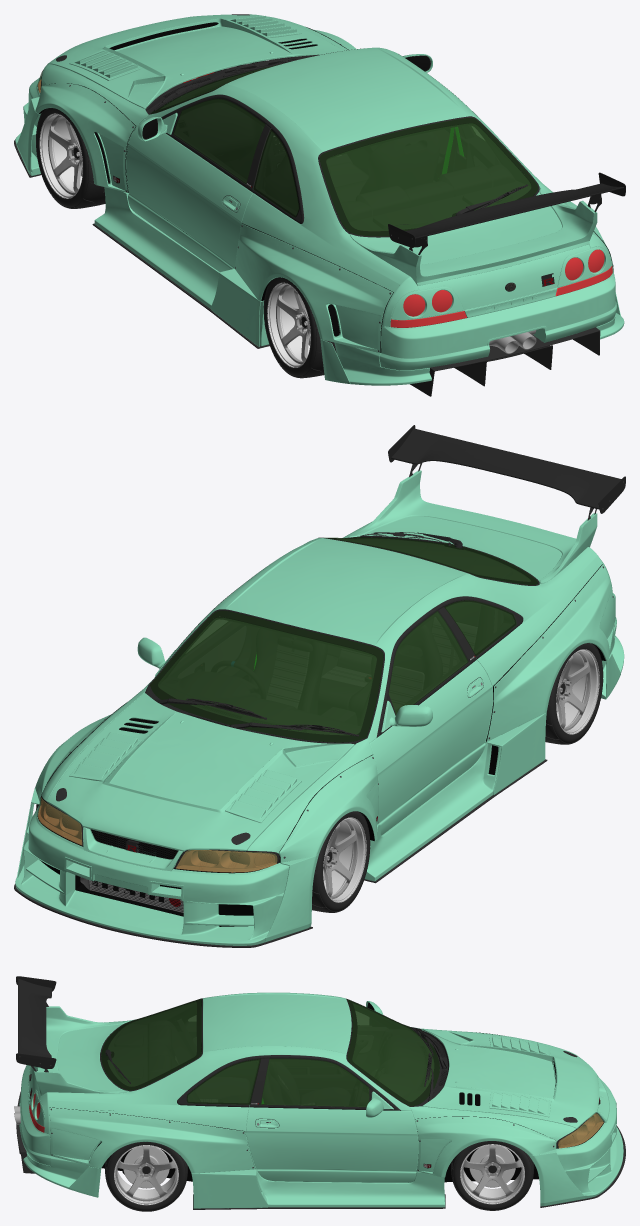
The model's file is skyline-r33.glb.
3 views of the same model, one above another, from view 1: azimuth 30°, elevation 25°; view 2: azimuth 150°, elevation 25°; view 3: azimuth 270°, elevation 25° (orthographic). The views are drawn at different scales.
Parts seen in each view (by area): view 1: Object_28, Object_19, Object_25, Object_23, Object_67, Object_58, Object_65, Object_14, Object_54, Object_61, Object_50, Object_46 (+1 smaller); view 2: Object_28, Object_19, Object_25, Object_23, Object_58, Object_27, Object_67, Object_14.001, Object_20, Object_61, Object_54, Object_50 (+4 smaller); view 3: Object_28, Object_19, Object_25, Object_23, Object_58, Object_54, Object_61, Object_67, Object_44, Object_65, Object_12, Object_14.001 (+3 smaller).
Boxes of the visible parts, box(x1,y1,x2,y2) form: Object_28: box(15, 14, 624, 385); Object_19: box(150, 64, 537, 235); Object_25: box(161, 72, 530, 230); Object_23: box(40, 48, 541, 291); Object_67: box(39, 113, 310, 367); Object_58: box(388, 172, 625, 247); Object_65: box(14, 14, 600, 396); Object_14: box(390, 249, 612, 327); Object_54: box(36, 108, 316, 376); Object_61: box(48, 115, 310, 364); Object_50: box(39, 22, 613, 352); Object_46: box(36, 110, 336, 378); Object_28: box(15, 470, 624, 945); Object_19: box(150, 537, 537, 742); Object_25: box(158, 538, 530, 734); Object_23: box(40, 532, 539, 912); Object_58: box(388, 425, 625, 513); Object_27: box(178, 617, 477, 709); Object_67: box(323, 649, 599, 902); Object_14.001: box(37, 797, 277, 872); Object_20: box(38, 798, 277, 872); Object_61: box(323, 651, 590, 898); Object_54: box(317, 643, 602, 911); Object_50: box(40, 564, 605, 926); Object_28: box(19, 992, 623, 1208); Object_19: box(101, 999, 439, 1106); Object_25: box(107, 1002, 433, 1127); Object_23: box(30, 998, 603, 1148); Object_58: box(16, 976, 56, 1068); Object_54: box(107, 1141, 531, 1211); Object_61: box(115, 1145, 523, 1201); Object_67: box(114, 1144, 524, 1205); Object_44: box(123, 1145, 515, 1188); Object_65: box(16, 1051, 625, 1209); Object_12: box(102, 1001, 604, 1182); Object_14.001: box(558, 1075, 603, 1148).
Bounding box in the file's own units: 2.01 × 1.27 × 4.81.
37 materials, 10 textured.
